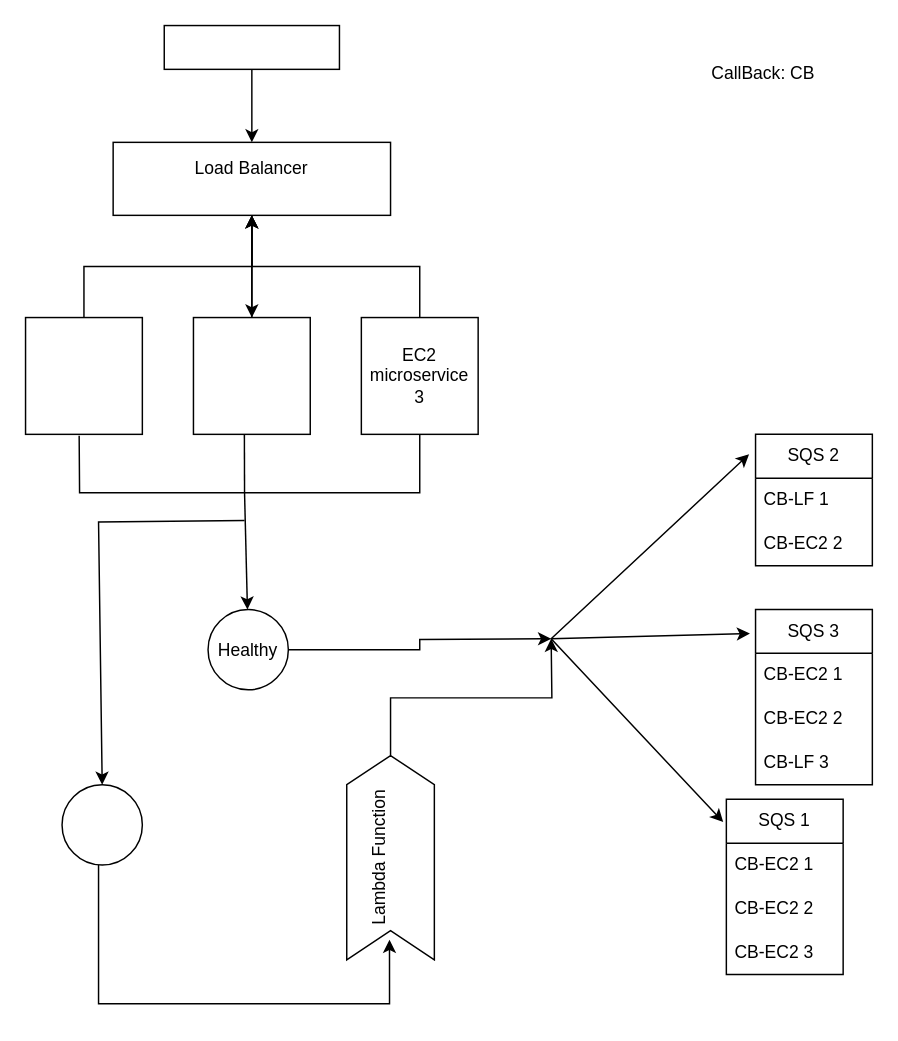
Image size: 898x1041. Some labels were removed from this diagram. The shapes that lost their labels are listed below. From the top down, each one's centre as x and y in pixels, then its label:
At pixel 251 46: "API Request".
At pixel 83 375: "EC2 microservice 1".
At pixel 251 375: "EC2 microservice 2".
At pixel 101 824: "unhealth y".
